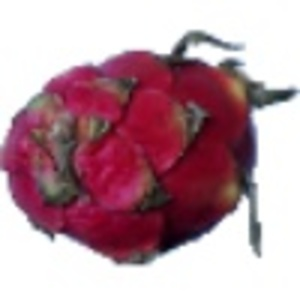pitaia: (1, 31, 300, 266)
